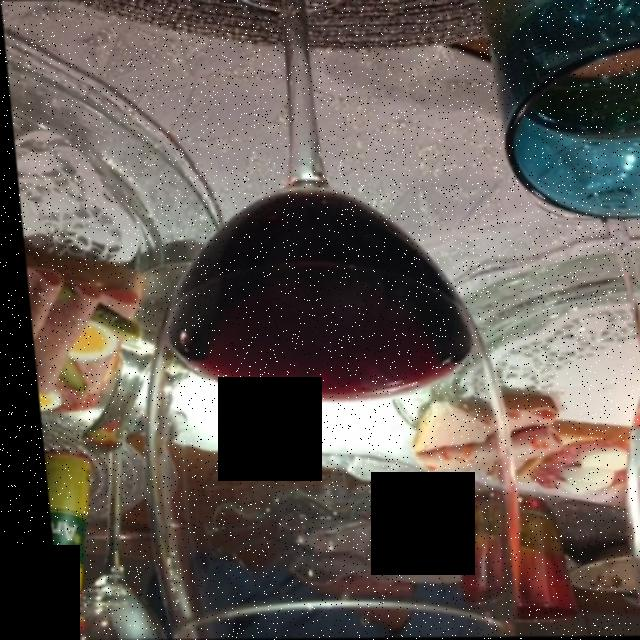wine-red: (174, 199, 458, 392)
